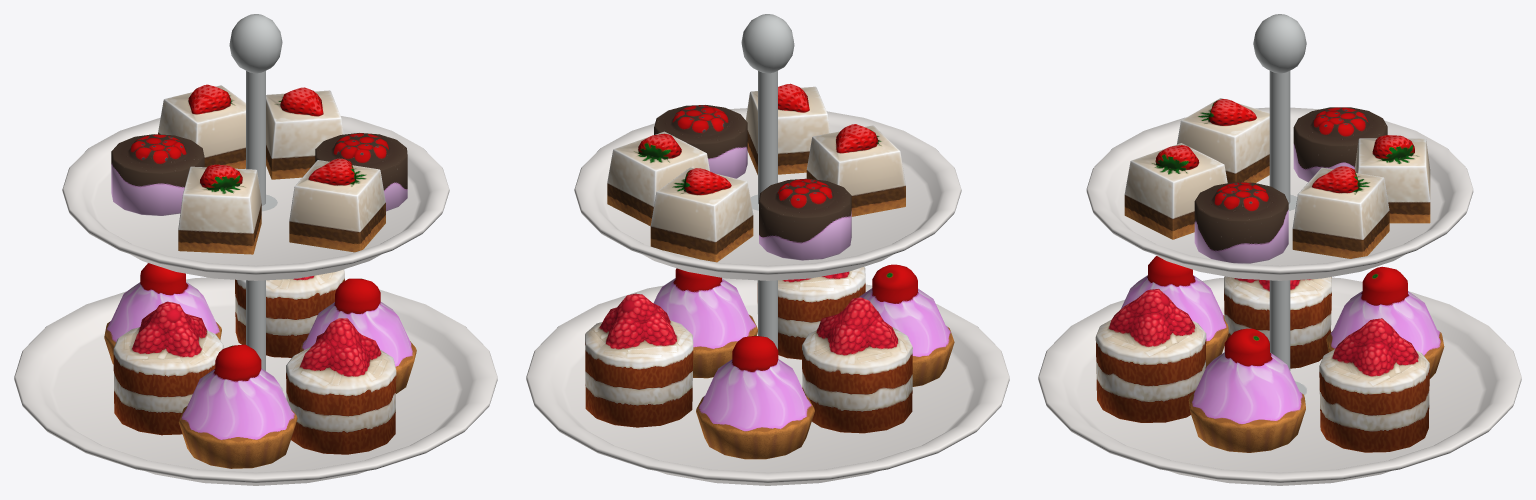
The model's file is BuffetDesserts01_1.FBX.
3 renders of one model, left to right at view 1: azimuth 30°, elevation 25°; view 2: azimuth 150°, elevation 25°; view 3: azimuth 270°, elevation 25°, orthographic.
Visible parts, largest first — view 1: BuffetDesserts01_1; view 2: BuffetDesserts01_1; view 3: BuffetDesserts01_1.
Part boxes in pixels (box(x1,y1,x2,y2)): BuffetDesserts01_1: box(14, 14, 497, 485); BuffetDesserts01_1: box(526, 14, 1009, 485); BuffetDesserts01_1: box(1038, 14, 1521, 485).
Size of what is drawn, in the model's own units: 0.5075 by 0.4488 by 0.5075.
